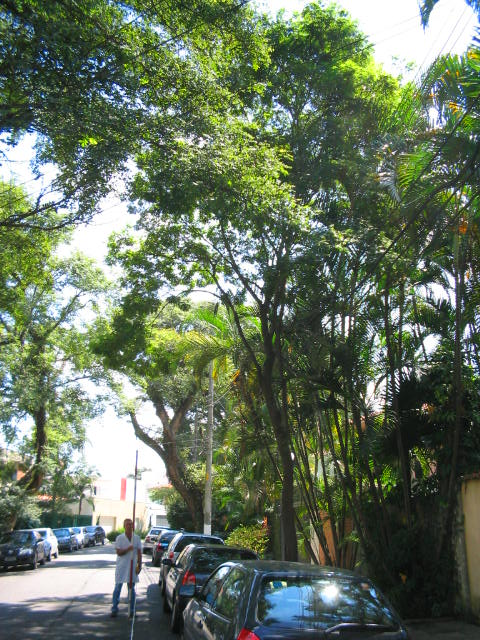stick: (125, 450, 144, 618)
